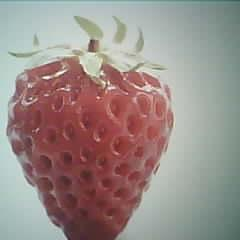straw-ripe: (7, 49, 174, 240)
